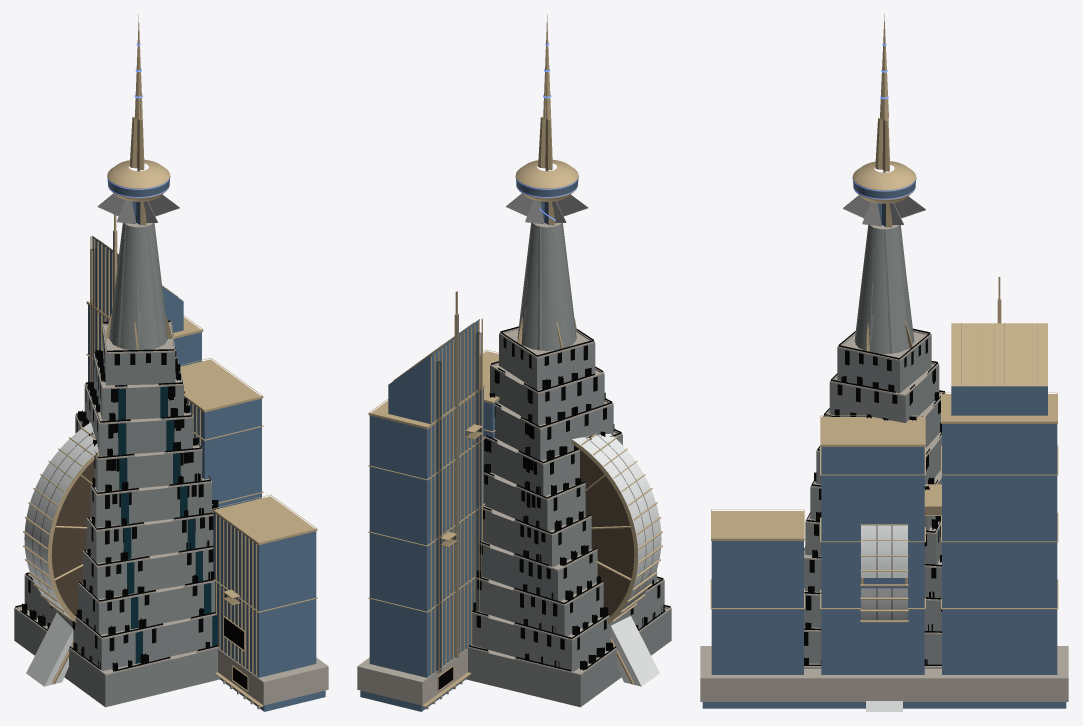
File: meridian-skyline-kit.glb
The picture shows the model from 3 angles, left to right: view 1: azimuth 30°, elevation 25°; view 2: azimuth 150°, elevation 25°; view 3: azimuth 270°, elevation 25°; orthographic projection.
Visible parts, largest first — view 1: terraced-arcology / Meridian residential, canyon-pair-tower / Meridian tower glass, terraced-arcology-lod / Meridian residential, canyon-pair-tower / Meridian champagne, terraced-arcology / Meridian foliage, orbis-ring-hotel / Meridian white composite, terraced-arcology / Meridian water, terraced-arcology / Meridian concrete, canyon-pair-tower / Meridian concrete, meridian-needle / Meridian champagne, orbis-ring-hotel / Meridian hotel glass, orbis-ring-hotel / Meridian champagne (+5 smaller); view 2: terraced-arcology / Meridian residential, canyon-pair-tower / Meridian tower glass, terraced-arcology-lod / Meridian residential, canyon-pair-tower / Meridian champagne, terraced-arcology / Meridian foliage, orbis-ring-hotel / Meridian white composite, terraced-arcology / Meridian concrete, orbis-ring-hotel / Meridian hotel glass, canyon-pair-tower / Meridian clear glass, canyon-pair-tower / Meridian concrete, meridian-needle / Meridian champagne, orbis-ring-hotel / Meridian champagne (+4 smaller); view 3: canyon-pair-tower / Meridian tower glass, canyon-pair-tower / Meridian champagne, terraced-arcology / Meridian residential, canyon-pair-tower / Meridian concrete, orbis-ring-hotel / Meridian white composite, terraced-arcology / Meridian foliage, meridian-needle / Meridian champagne, terraced-arcology-lod / Meridian residential, terraced-arcology / Meridian concrete, terraced-arcology / Meridian trim atlas, orbis-ring-hotel / Meridian champagne.
Boxes of the visible parts, box(x1,y1,x2,y2) form: terraced-arcology / Meridian residential: box(14, 223, 219, 707); canyon-pair-tower / Meridian tower glass: box(88, 237, 325, 711); terraced-arcology-lod / Meridian residential: box(96, 224, 215, 706); canyon-pair-tower / Meridian champagne: box(86, 230, 317, 707); terraced-arcology / Meridian foliage: box(15, 320, 218, 671); orbis-ring-hotel / Meridian white composite: box(24, 422, 98, 686); terraced-arcology / Meridian water: box(118, 386, 217, 663); terraced-arcology / Meridian concrete: box(14, 223, 218, 675); canyon-pair-tower / Meridian concrete: box(218, 648, 328, 709); meridian-needle / Meridian champagne: box(107, 15, 170, 201); orbis-ring-hotel / Meridian hotel glass: box(51, 482, 90, 615); orbis-ring-hotel / Meridian champagne: box(23, 427, 98, 684); terraced-arcology / Meridian residential: box(466, 223, 671, 707); canyon-pair-tower / Meridian tower glass: box(360, 320, 498, 711); terraced-arcology-lod / Meridian residential: box(468, 223, 580, 706); canyon-pair-tower / Meridian champagne: box(368, 291, 499, 707); terraced-arcology / Meridian foliage: box(468, 326, 670, 671); orbis-ring-hotel / Meridian white composite: box(572, 433, 661, 686); terraced-arcology / Meridian concrete: box(467, 223, 671, 675); orbis-ring-hotel / Meridian hotel glass: box(585, 474, 634, 616); canyon-pair-tower / Meridian clear glass: box(436, 332, 481, 672); canyon-pair-tower / Meridian concrete: box(357, 648, 467, 709); meridian-needle / Meridian champagne: box(515, 15, 578, 201); orbis-ring-hotel / Meridian champagne: box(571, 433, 662, 684); canyon-pair-tower / Meridian tower glass: box(702, 386, 1066, 708); canyon-pair-tower / Meridian champagne: box(710, 299, 1058, 609); terraced-arcology / Meridian residential: box(804, 225, 941, 668); canyon-pair-tower / Meridian concrete: box(700, 646, 1068, 701); orbis-ring-hotel / Meridian white composite: box(861, 525, 907, 711); terraced-arcology / Meridian foliage: box(804, 328, 944, 665); meridian-needle / Meridian champagne: box(852, 14, 916, 203); terraced-arcology-lod / Meridian residential: box(855, 225, 941, 564); terraced-arcology / Meridian concrete: box(804, 225, 945, 667); terraced-arcology / Meridian trim atlas: box(843, 195, 925, 226); orbis-ring-hotel / Meridian champagne: box(860, 524, 908, 622).
Bounding box in the file's own units: 210 × 621 × 320.
